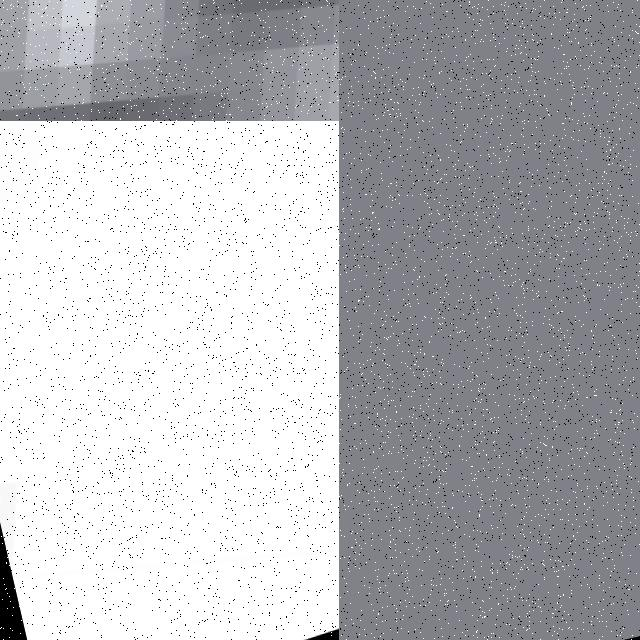drone: (0, 121, 339, 640), (0, 0, 339, 121)
